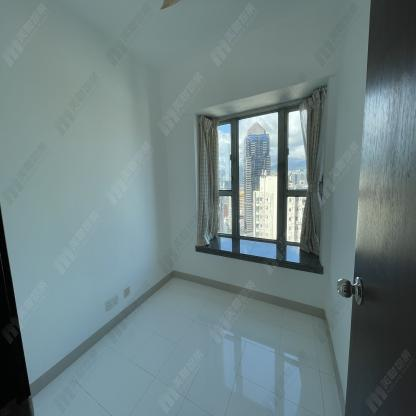Windowsill: (193, 76, 329, 276)
